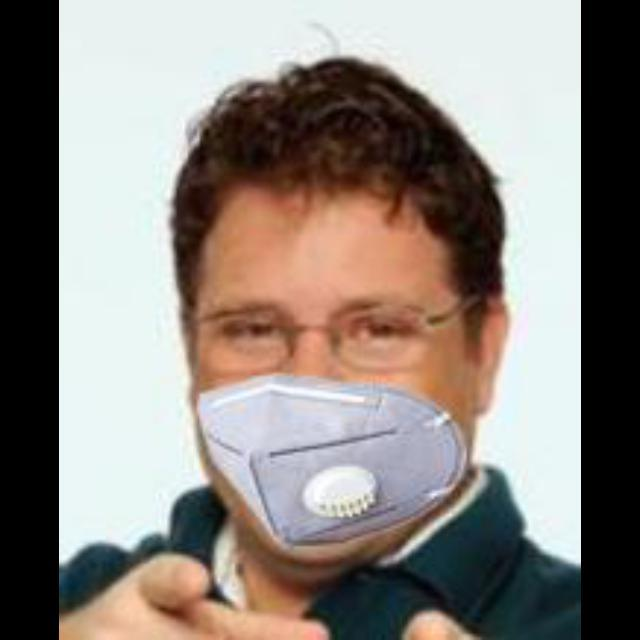suspicion: (158, 55, 492, 589)
